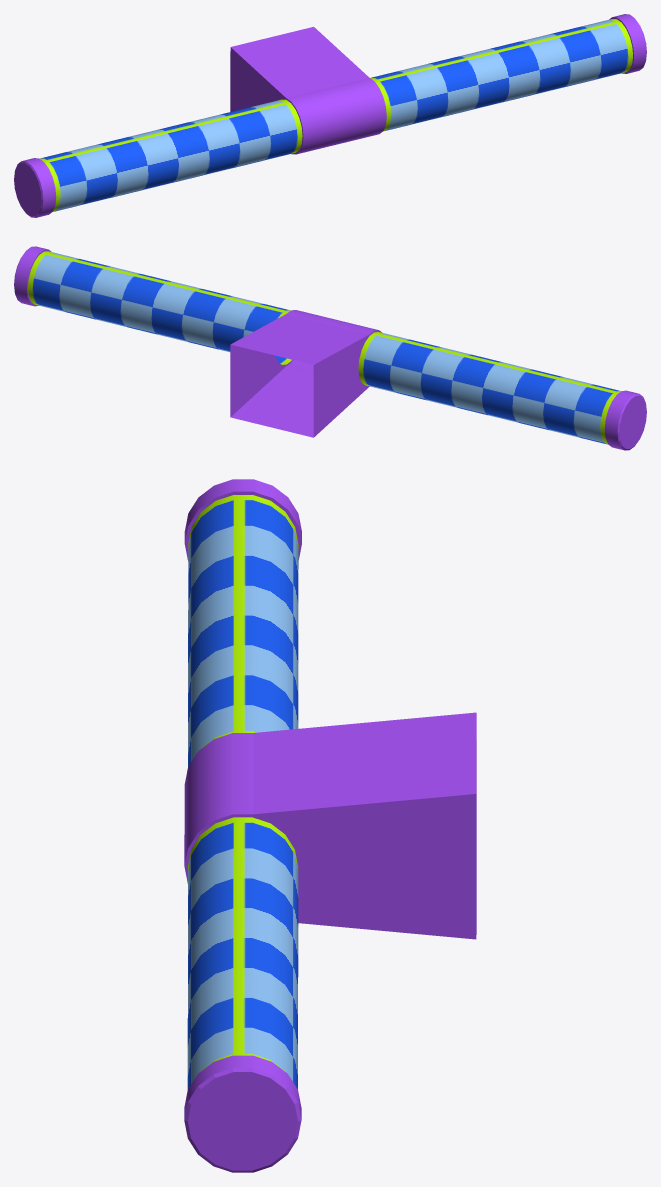
The model's file is LightWall09_2.FBX.
3 views of the same model, one above another, from view 1: azimuth 30°, elevation 25°; view 2: azimuth 150°, elevation 25°; view 3: azimuth 270°, elevation 25° (orthographic). The views are drawn at different scales.
Parts seen in each view (by area): view 1: LightWall09_2; view 2: LightWall09_2; view 3: LightWall09_2.
Part boxes in pixels (x1,y1,x2,y2): LightWall09_2: (14,14,646,217); LightWall09_2: (14,246,646,450); LightWall09_2: (184,479,476,1172).
Bounding box in the file's own units: 60.2 × 6.92 × 12.59.
